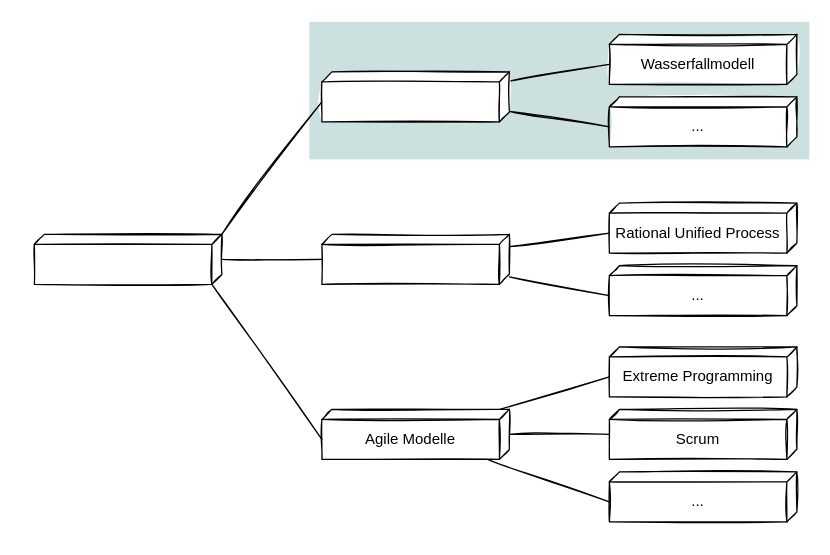
Some shapes in this 830 by 555 pixel diagram are drawn without their labels. The shapes that lost their labels are listed below. From the top down, each one's centre as x and y in pixels, then its label:
At pixel 415 96: "Sequentielle Modelle".
At pixel 127 258: "Vorgehensmodelle".
At pixel 415 258: "Iterativ-inkrementelle Modelle".
